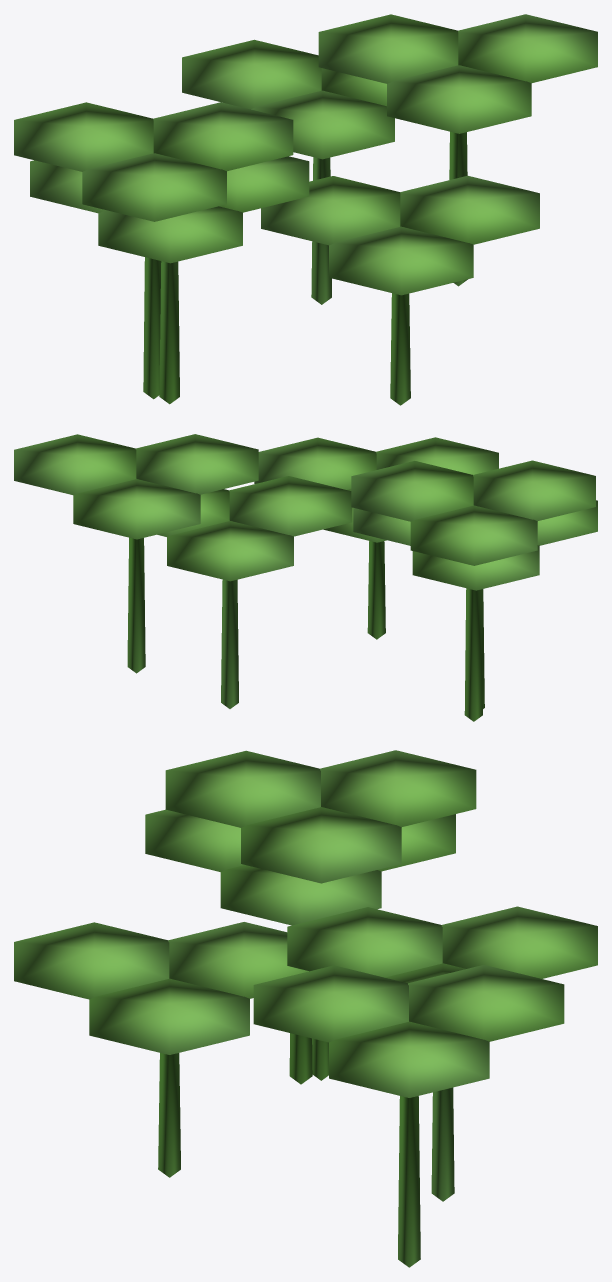
The model's file is world_clover_a.fbx.
3 views of the same model, one above another, from view 1: azimuth 30°, elevation 25°; view 2: azimuth 150°, elevation 25°; view 3: azimuth 270°, elevation 25° (orthographic). The views are drawn at different scales.
Visible parts, largest first — view 1: world_clover_a; view 2: world_clover_a; view 3: world_clover_a.
Part boxes in pixels (bbox=[...]): world_clover_a: bbox=[14, 14, 597, 405]; world_clover_a: bbox=[14, 434, 597, 721]; world_clover_a: bbox=[14, 750, 597, 1267].
Size of the model in its own units: 114 by 46.48 by 88.01.
